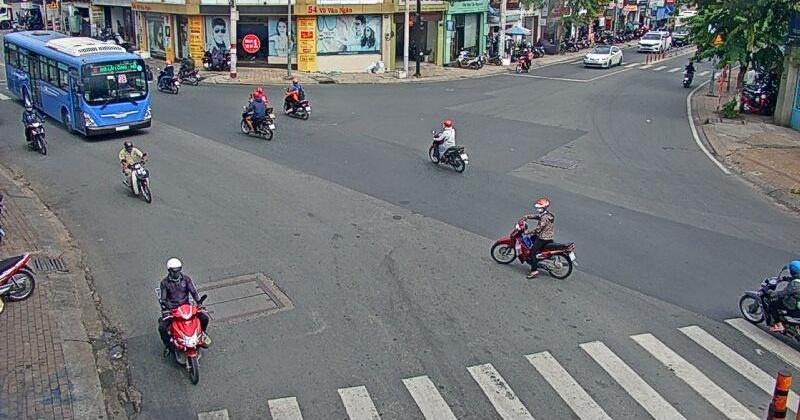xe buyt: (3, 30, 150, 136)
xe may: (490, 199, 573, 280), (155, 257, 207, 385), (737, 259, 800, 343), (118, 140, 152, 203), (428, 120, 468, 173), (239, 91, 275, 140), (282, 79, 311, 121), (157, 58, 180, 94)
